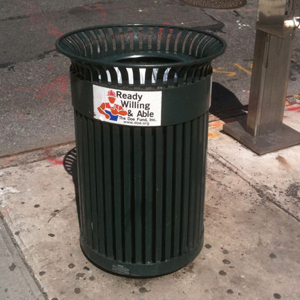TrashBin: (47, 19, 237, 277)
